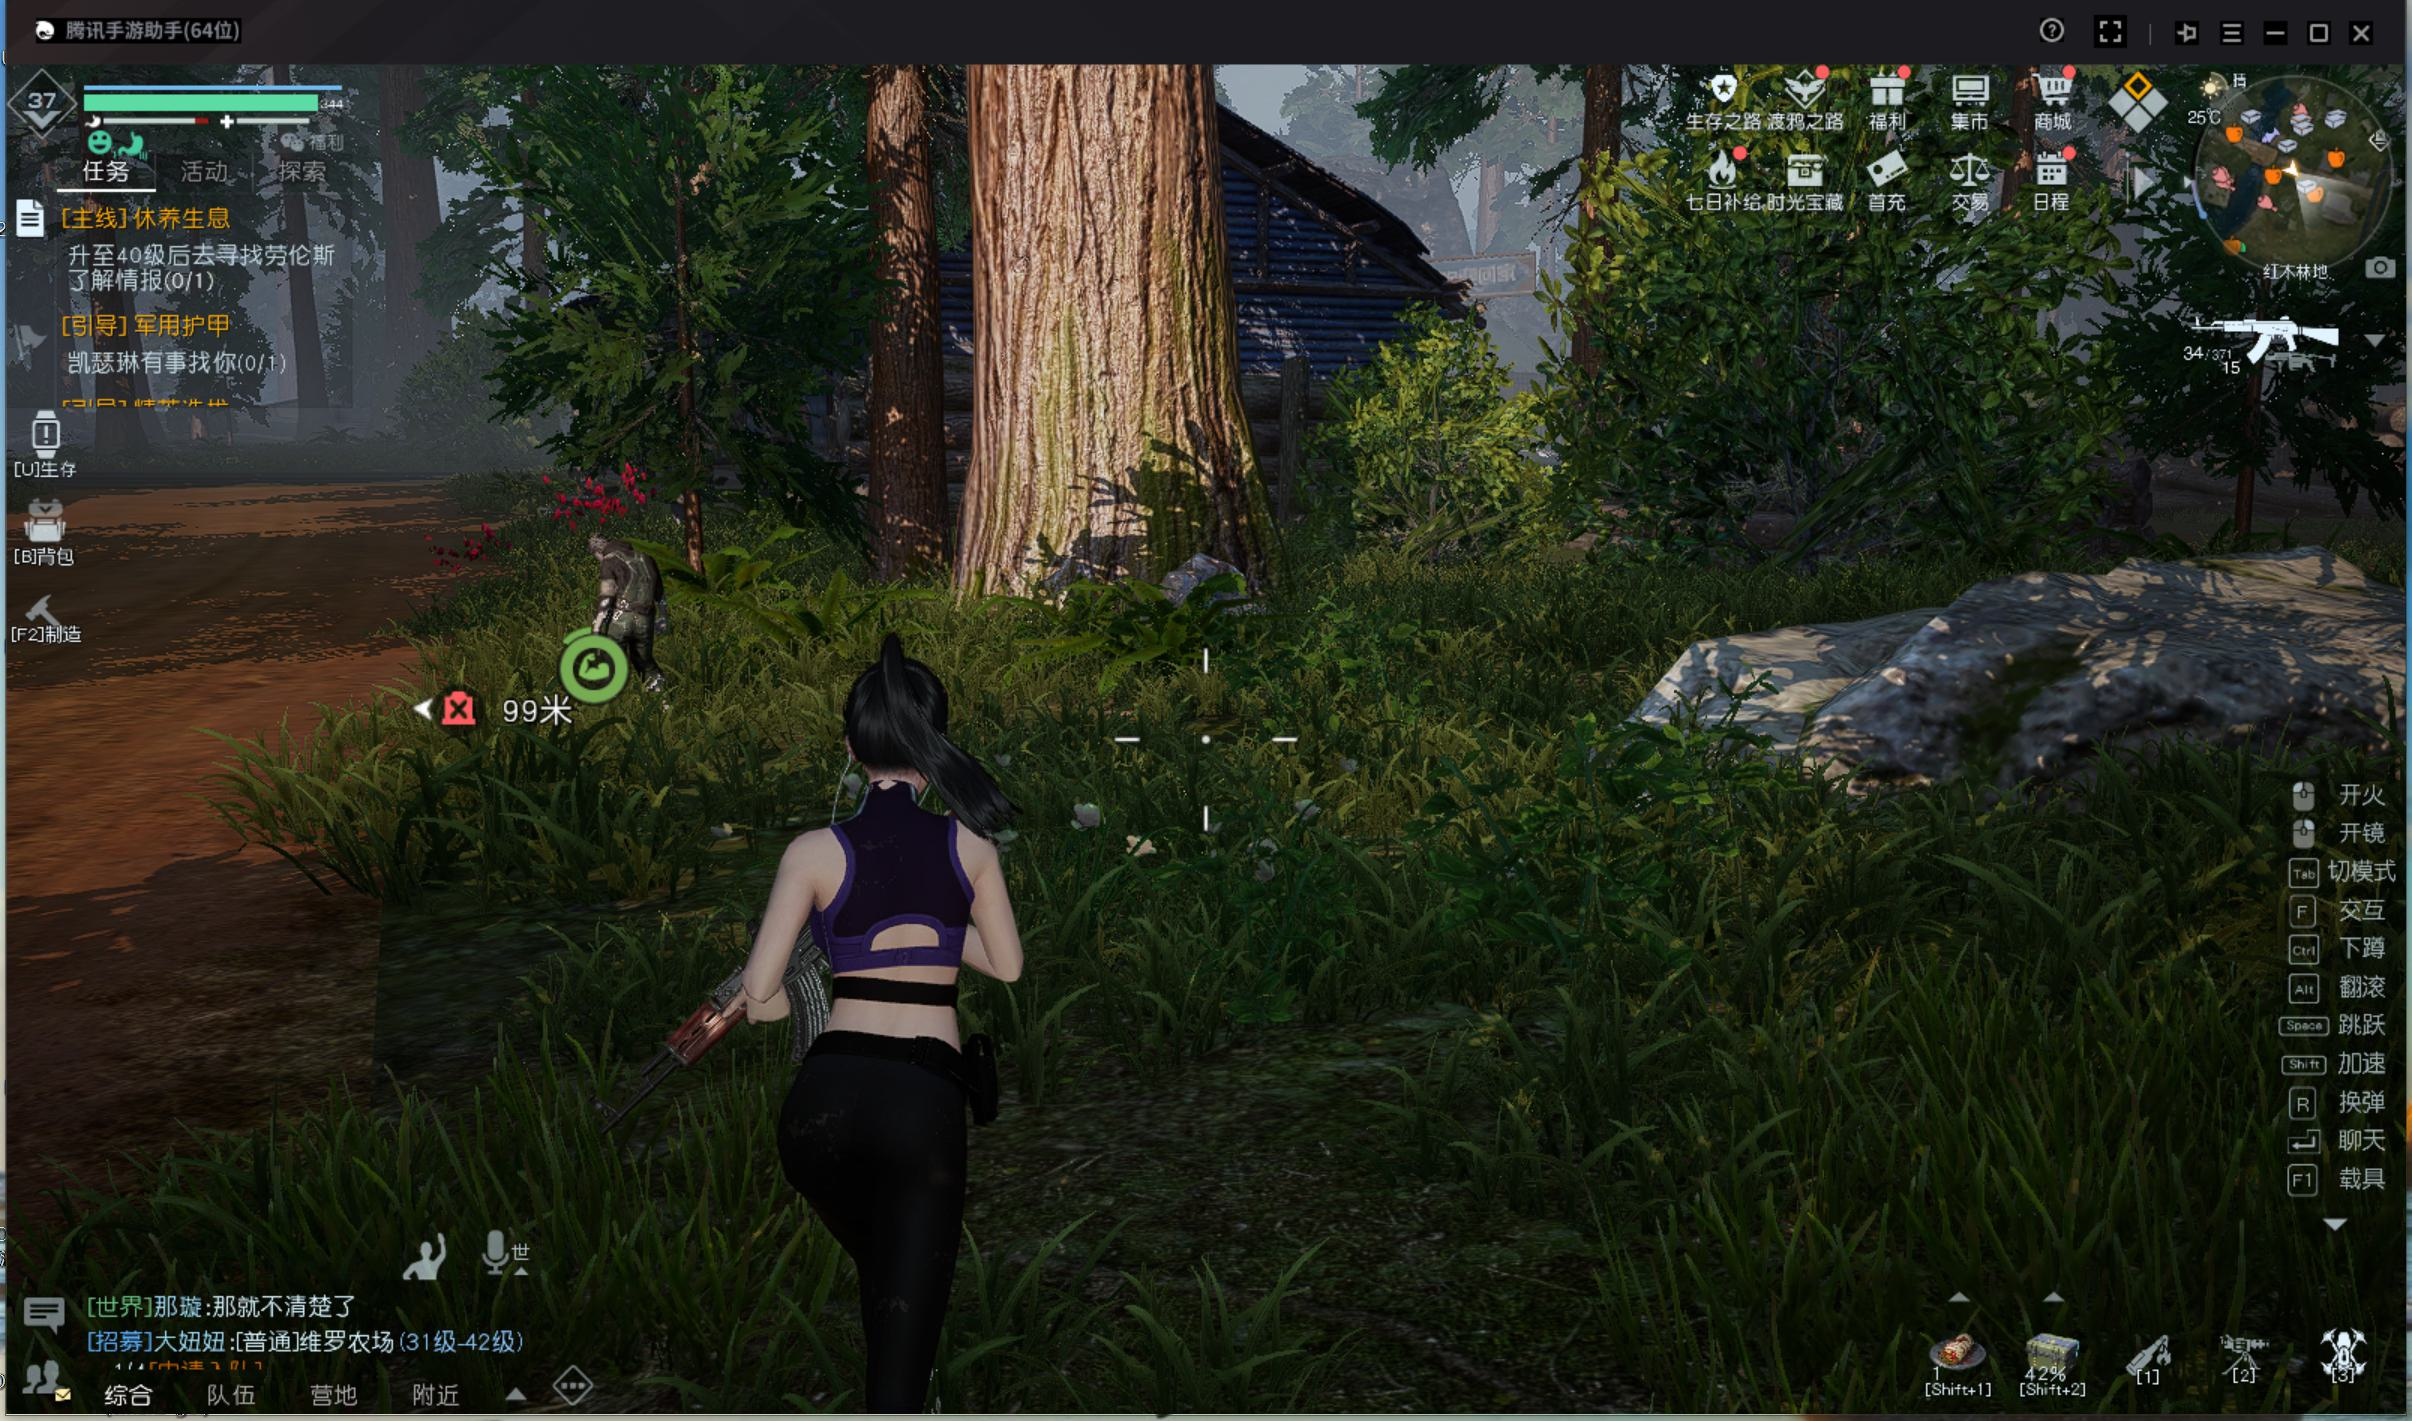stone: (1106, 550, 1297, 650)
tree: (939, 129, 1284, 612), (929, 117, 1292, 496)
